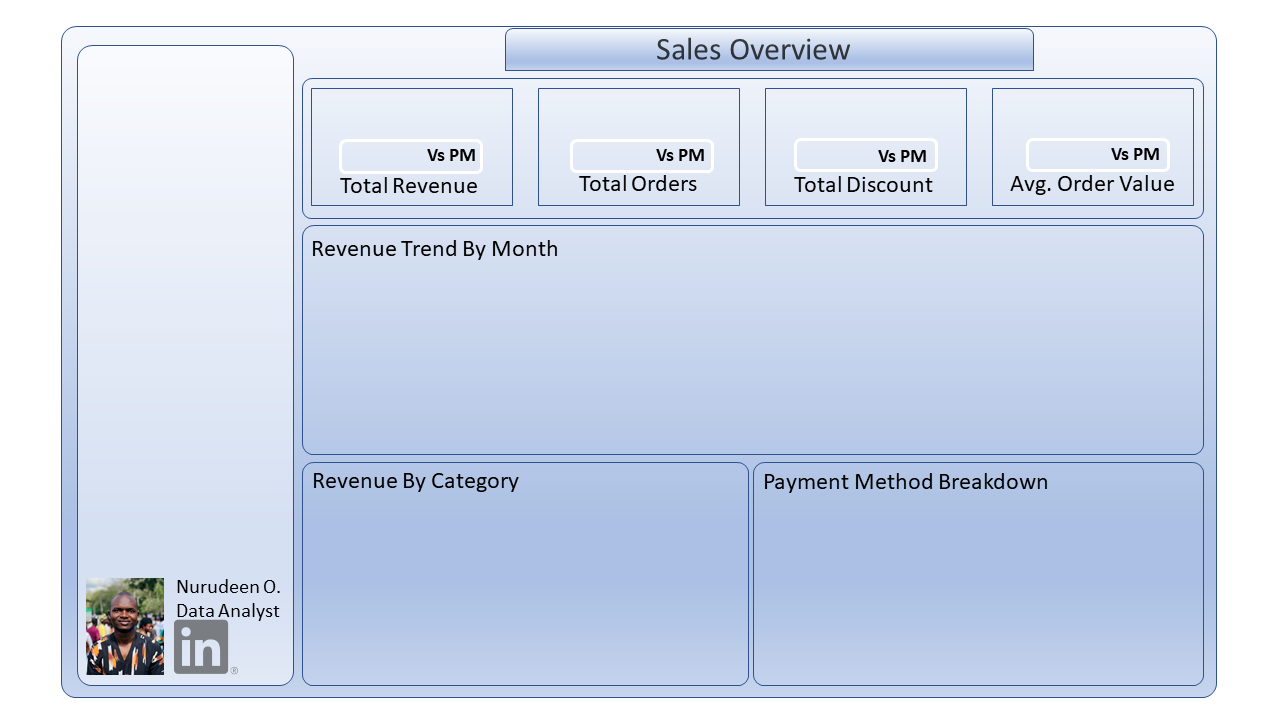

The page's visual inventory and layout, read from the dashboard file:
{"tool":"powerbi","page":{"name":"Page 1","canvas":[1280,720],"ordinal":0},"visuals":[{"type":"card","fields":{"Values":["Measures Table.Total Revenue"]},"box":[331,73,174,75],"z":0},{"type":"card","fields":{"Values":["Measures Table.Total Orders"]},"box":[545,73,174,75],"z":1000},{"type":"card","fields":{"Values":["Measures Table.Total Discount"]},"box":[784,73,174,75],"z":2000},{"type":"card","fields":{"Values":["Measures Table.Average Order Value"]},"box":[1008,73,174,75],"z":3000},{"type":"lineChart","fields":{"Y":["Measures Table.Total Revenue"],"Category":["ecommerce_dataset.Purchase_Date.Variation.Date Hierarchy.Month"],"Y2":["Sum(ecommerce_dataset.Discount)"]},"box":[309,226,885,220],"z":4000},{"type":"columnChart","fields":{"Category":["ecommerce_dataset.Category"],"Y":["Measures Table.Total Revenue"]},"box":[297,472,471,214],"z":5000},{"type":"donutChart","fields":{"Y":["Measures Table.Total Revenue"],"Category":["ecommerce_dataset.Payment_Method"]},"box":[752,483,457,195],"z":6000},{"type":"slicer","fields":{"Values":["ecommerce_dataset.Purchase_Date.Variation.Date Hierarchy.Month"]},"box":[82,44,205,385],"z":7000},{"type":"slicer","fields":{"Values":["ecommerce_dataset.Category"]},"box":[82,423,205,78],"z":8000},{"type":"slicer","fields":{"Values":["ecommerce_dataset.Payment_Method"]},"box":[82,495,205,76],"z":9000},{"type":"card","fields":{"Values":["Measures Table.% MOM Revenue"]},"box":[341,123,99,64],"z":9001},{"type":"card","fields":{"Values":["Measures Table.% MOM Discount"]},"box":[793,123,99,64],"z":9002},{"type":"card","fields":{"Values":["Measures Table.% MOM Orders"]},"box":[570,123,99,64],"z":9003},{"type":"card","fields":{"Values":["Measures Table.% MOM Avg Order value"]},"box":[1024,123,99,64],"z":9004}]}

Visuals, with their boxes in screenshot pixels (x1, y1, x2, y2), scaled from the page's 1280x720 canvas onto the 1280x720 screenshot:
card - Measures Table.Total Revenue: <box>331,73,505,148</box>
card - Measures Table.Total Orders: <box>545,73,719,148</box>
card - Measures Table.Total Discount: <box>784,73,958,148</box>
card - Measures Table.Average Order Value: <box>1008,73,1182,148</box>
lineChart - Measures Table.Total Revenue x ecommerce_dataset.Purchase_Date.Variation.Date Hierarchy.Month: <box>309,226,1194,446</box>
columnChart - ecommerce_dataset.Category x Measures Table.Total Revenue: <box>297,472,768,686</box>
donutChart - Measures Table.Total Revenue x ecommerce_dataset.Payment_Method: <box>752,483,1209,678</box>
slicer - ecommerce_dataset.Purchase_Date.Variation.Date Hierarchy.Month: <box>82,44,287,429</box>
slicer - ecommerce_dataset.Category: <box>82,423,287,501</box>
slicer - ecommerce_dataset.Payment_Method: <box>82,495,287,571</box>
card - Measures Table.% MOM Revenue: <box>341,123,440,187</box>
card - Measures Table.% MOM Discount: <box>793,123,892,187</box>
card - Measures Table.% MOM Orders: <box>570,123,669,187</box>
card - Measures Table.% MOM Avg Order value: <box>1024,123,1123,187</box>
